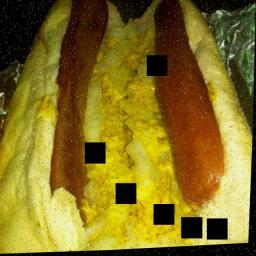hotdog: (50, 0, 110, 215), (148, 0, 219, 120), (172, 120, 220, 208)
